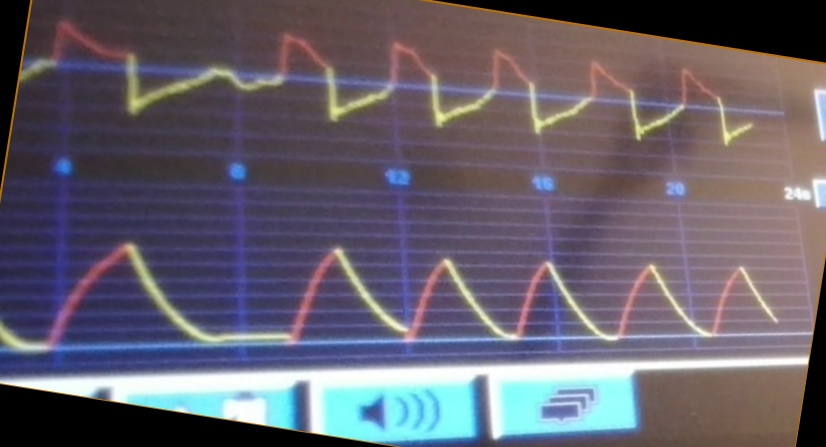Ineffective_effort Flow: (32, 15, 752, 146)
Ineffective_effort Volume: (1, 229, 785, 353)
